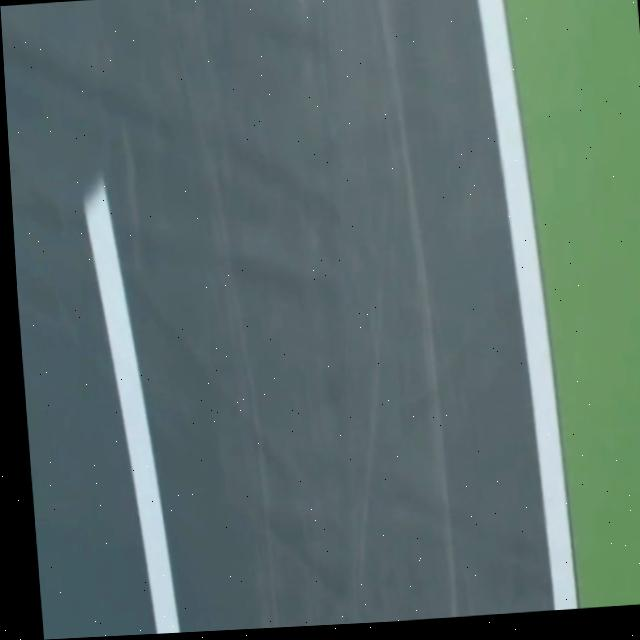center: (84, 179, 179, 634)
right: (476, 0, 577, 609)
